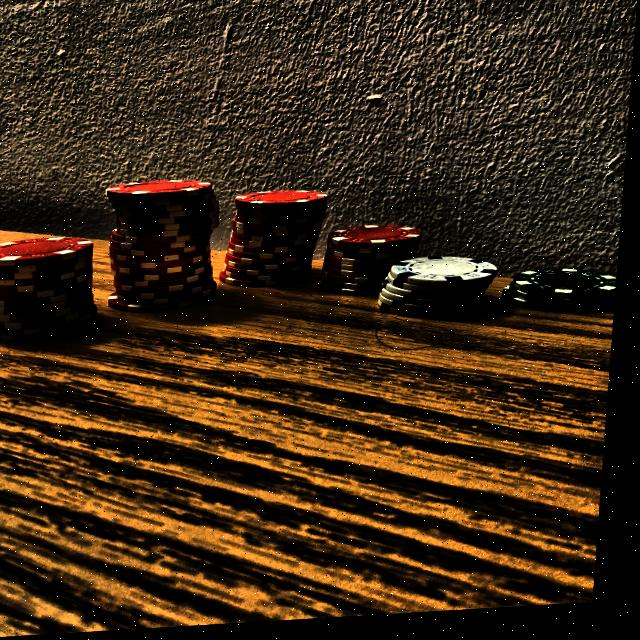Chip: (101, 178, 226, 319), (0, 223, 101, 353), (374, 242, 508, 339), (223, 187, 333, 300), (309, 213, 431, 314), (504, 270, 623, 327)
